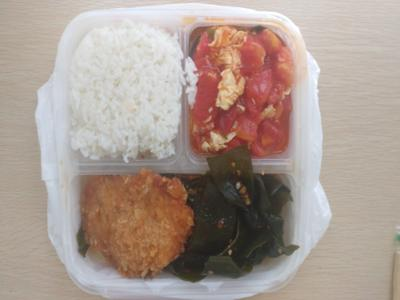jdxhs: (187, 24, 298, 162)
rice: (64, 25, 179, 163)
